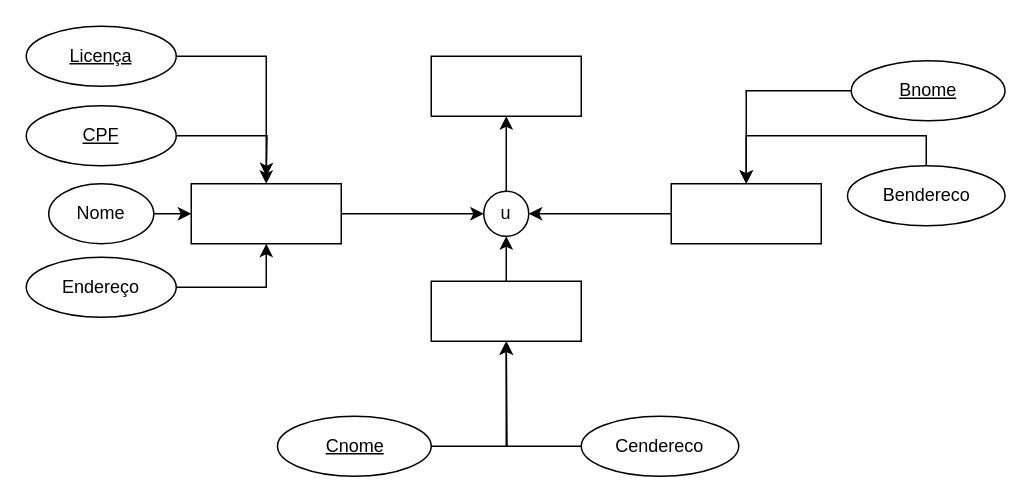
Image size: 1032x503. Some labels were removed from this diagram. The box of each missing label's shape, as (x1, y1, x2, y2) in pixels:
Banco: (670, 182, 821, 244)
Companhia: (430, 280, 581, 341)
Dono: (430, 55, 581, 116)
Pessoa: (190, 182, 341, 244)
